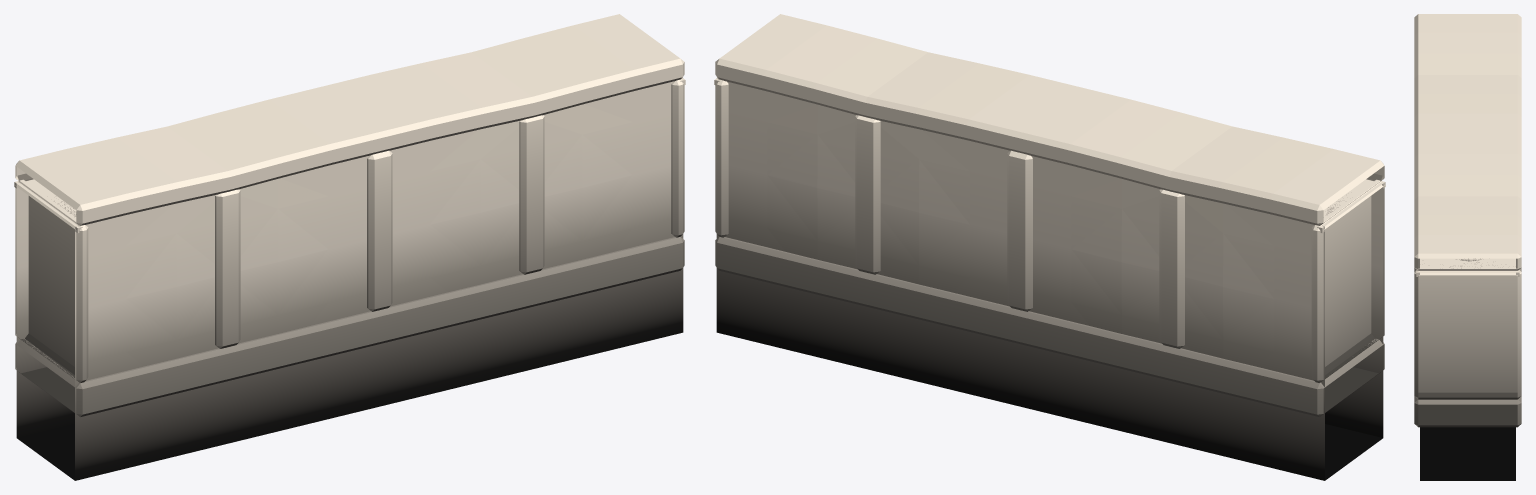
File: SM_VKI_Wall_Timber_Plain_300_Cut.fbx
The picture shows the model from 3 angles, left to right: view 1: azimuth 30°, elevation 25°; view 2: azimuth 150°, elevation 25°; view 3: azimuth 270°, elevation 25°; orthographic projection. The views are drawn at different scales.
Visible parts, largest first — view 1: SM_VKI_Wall_Timber_Plain_300_Cut.001; view 2: SM_VKI_Wall_Timber_Plain_300_Cut.001; view 3: SM_VKI_Wall_Timber_Plain_300_Cut.001.
Boxes of the visible parts, x1,y1,x2,y2 form: SM_VKI_Wall_Timber_Plain_300_Cut.001: (14,14,685,480); SM_VKI_Wall_Timber_Plain_300_Cut.001: (714,14,1385,480); SM_VKI_Wall_Timber_Plain_300_Cut.001: (1414,14,1521,480).
Size of the model in its own units: 3 by 1.3 by 0.56.
